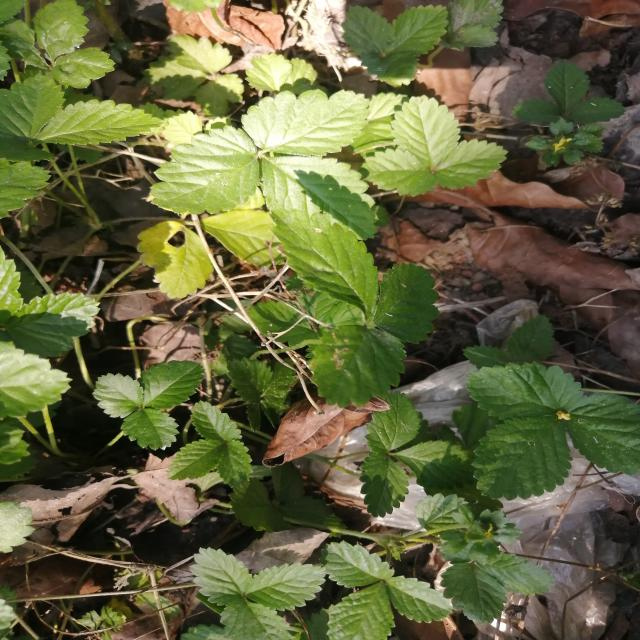Mock_strawberry: (274, 212, 454, 404), (452, 358, 640, 510)
